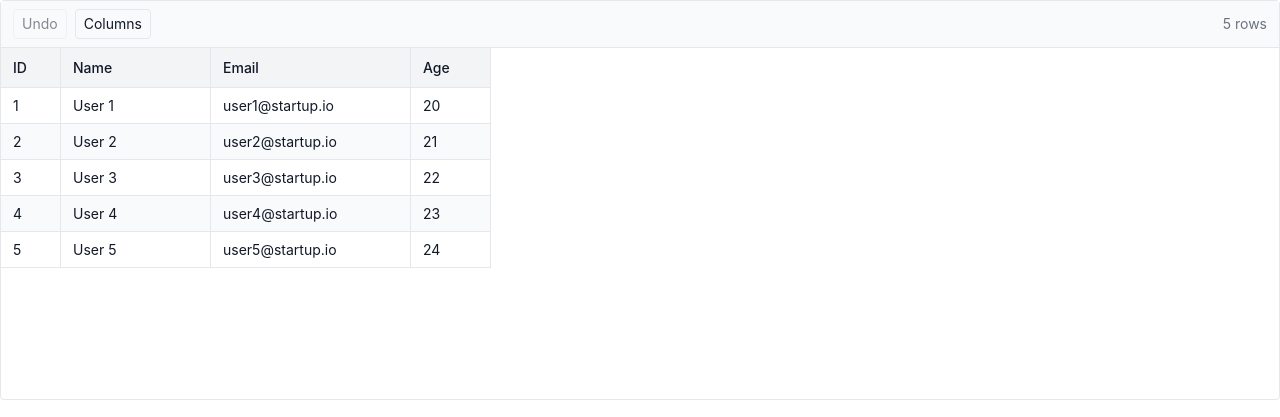
Test: DataGrid › toggle columns
Click the button "Columns": (113, 24) [75, 9, 151, 39]
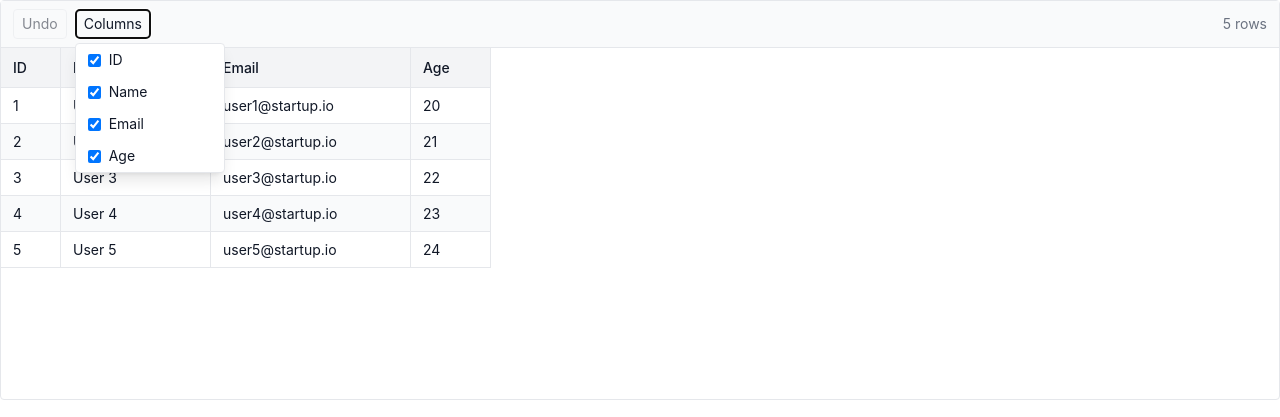
 hide ID
Click the checkbox labelled "ID": (94, 60) [88, 54, 101, 66]
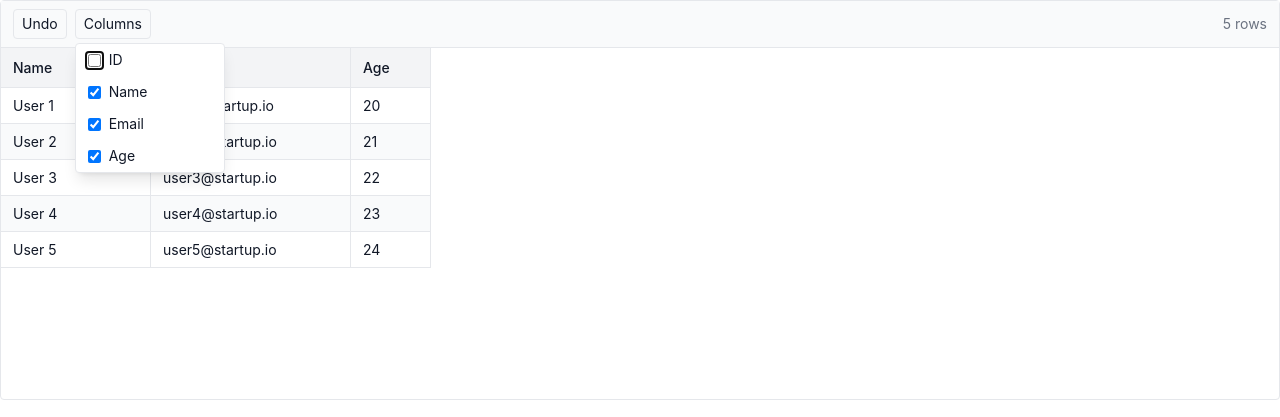
 undo it
Click the button "Undo": (40, 24) [13, 9, 67, 39]
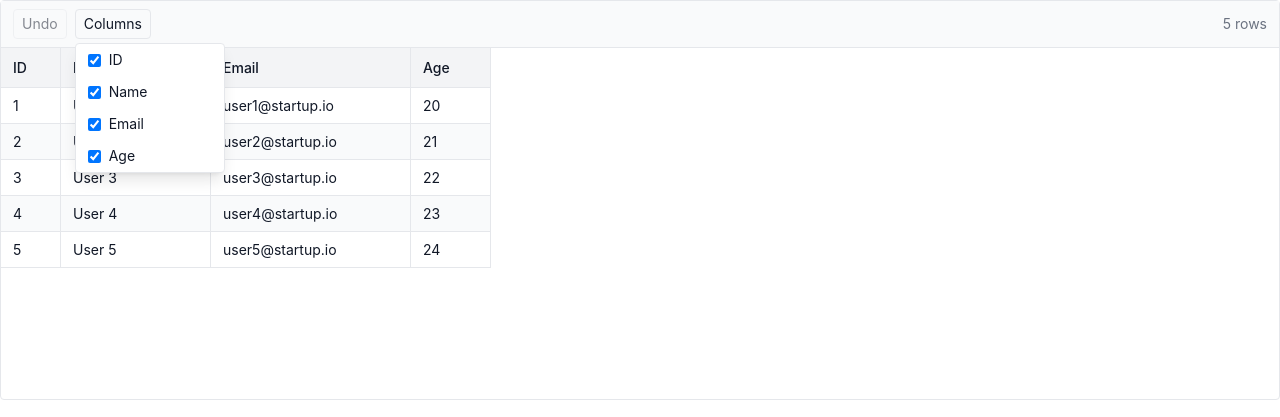
Result: the column heading "ID" is shown at [1, 48, 61, 88]
